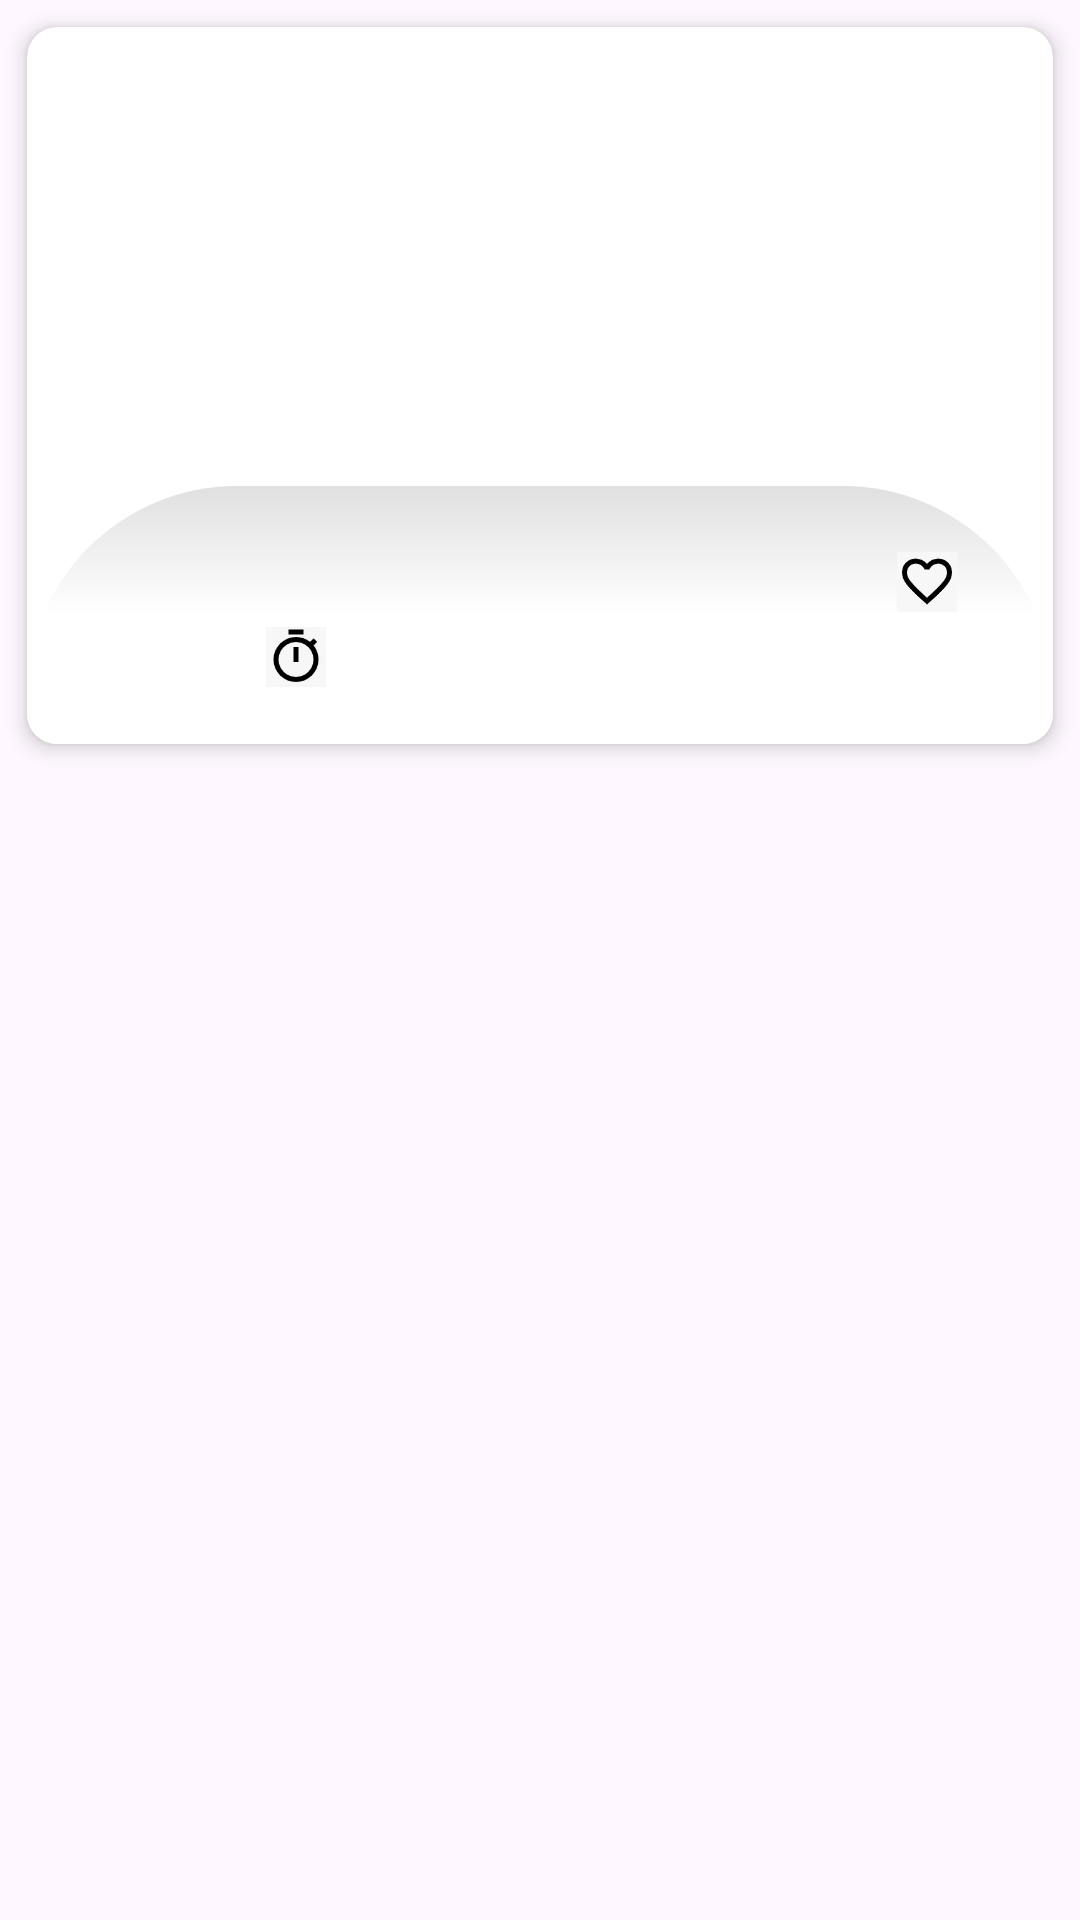

Locate icon controls on the screen. Image size 1080px×1920px, boxes as Rect(x1, y1, x2, y2).
like: Rect(902, 558, 952, 605)
timer: Rect(273, 629, 319, 682)
